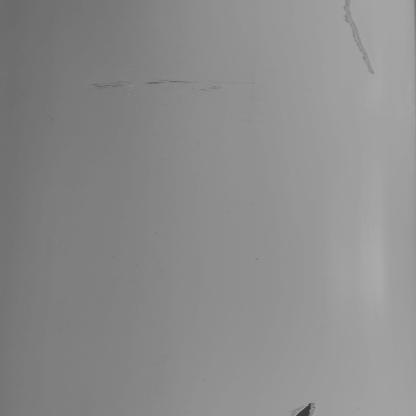kongdong: (291, 403, 320, 416)
sunshang: (342, 1, 376, 75), (92, 78, 244, 92)
